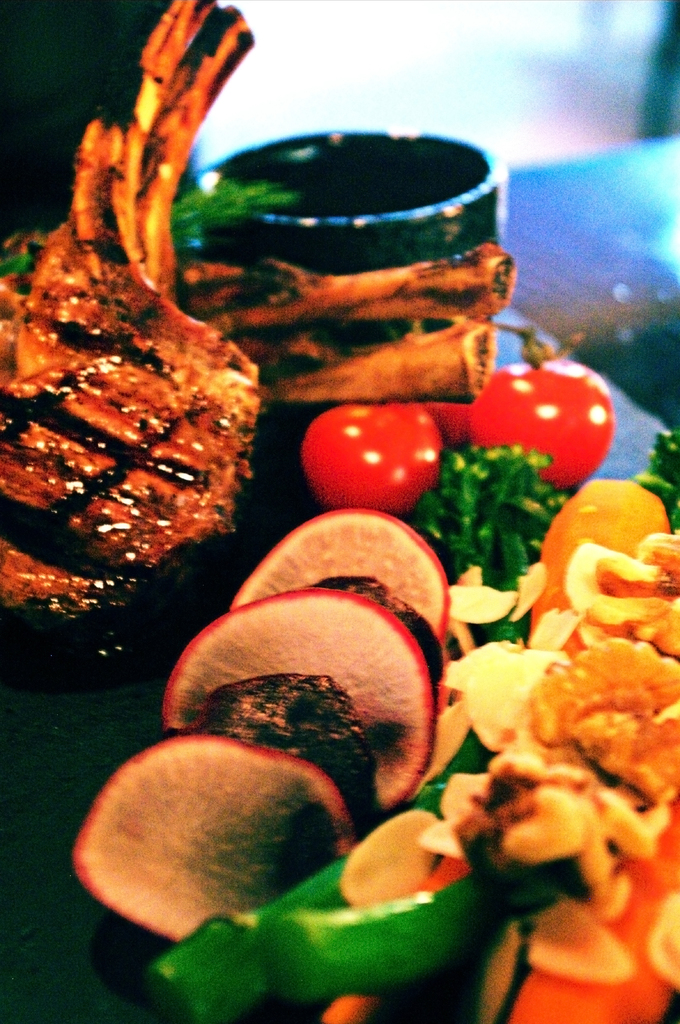Tomato: (470, 356, 625, 483), (285, 400, 463, 510)
